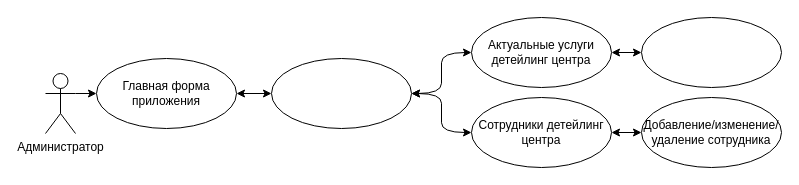
Some shapes in this 799 by 185 pixel diagram are drawn without their labels. Here are the shapes that lost their labels. From the top down, the centre of each, then its label:
[711,52]: Добавление/изменение/удаление услуги
[341,93]: Форма для работы администратора
